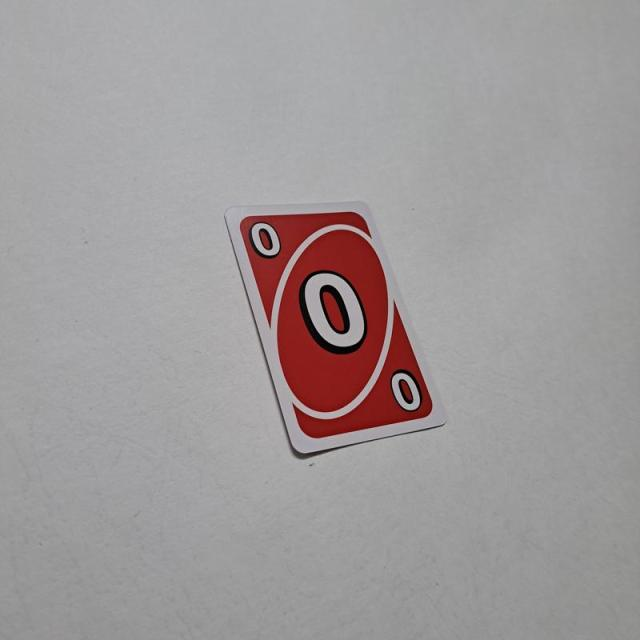Number_0: (250, 220, 283, 260)
Red_Card: (237, 204, 440, 444)
